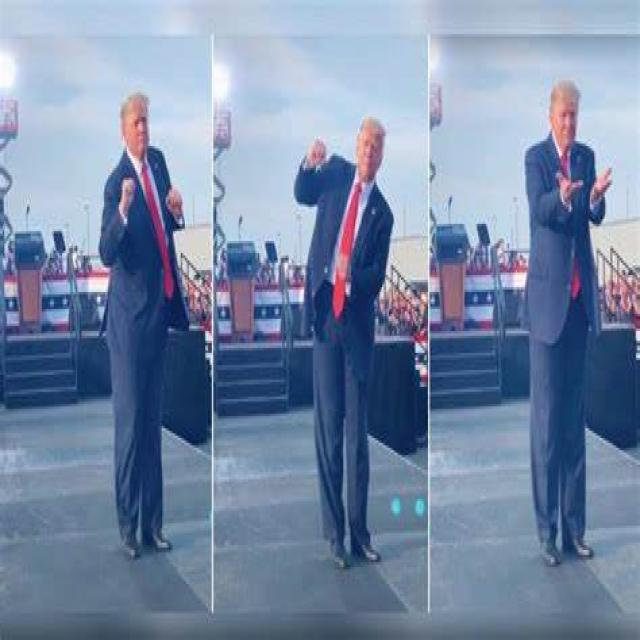stand: (301, 106, 394, 572), (524, 76, 606, 594), (103, 68, 179, 610)
